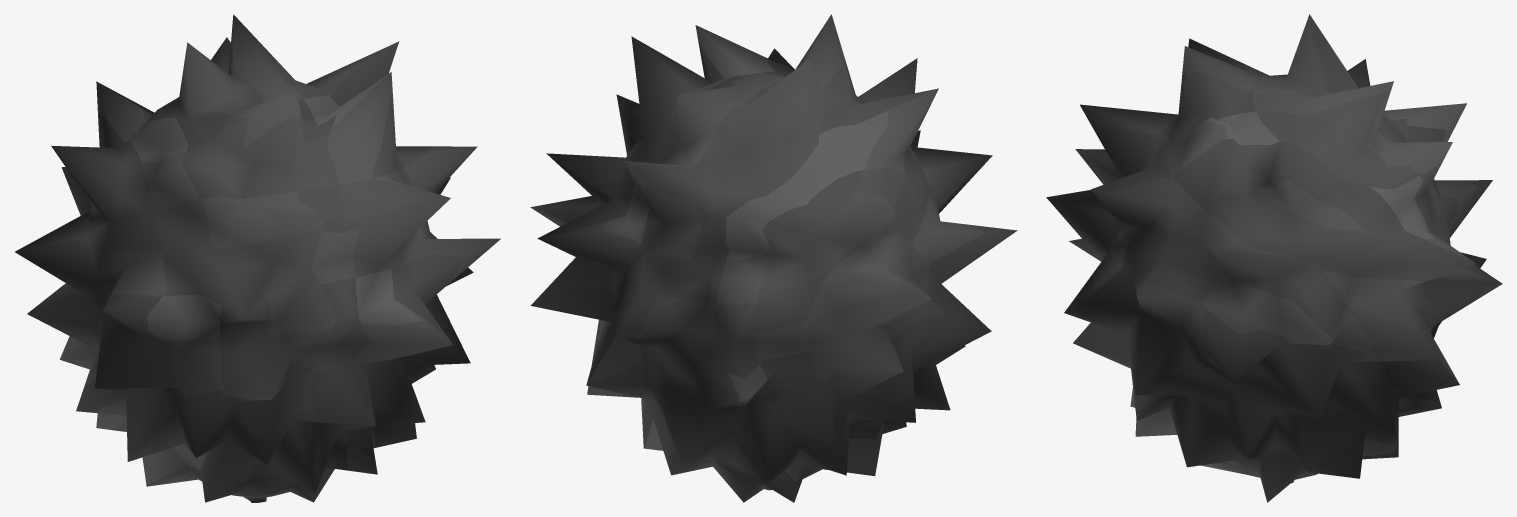
File: BoomBalloon.obj
The picture shows the model from 3 angles, left to right: view 1: azimuth 30°, elevation 25°; view 2: azimuth 150°, elevation 25°; view 3: azimuth 270°, elevation 25°; orthographic projection. The views are drawn at different scales.
Parts seen in each view (by area): view 1: Balloon_Icosphere.001; view 2: Balloon_Icosphere.001; view 3: Balloon_Icosphere.001.
Part boxes in pixels (x1,y1,x2,y2): Balloon_Icosphere.001: [15, 14, 500, 502]; Balloon_Icosphere.001: [530, 14, 1017, 502]; Balloon_Icosphere.001: [1046, 14, 1502, 502].
Size of the model in its own units: 2.64 by 2.74 by 2.56.
1 material, 1 textured.
